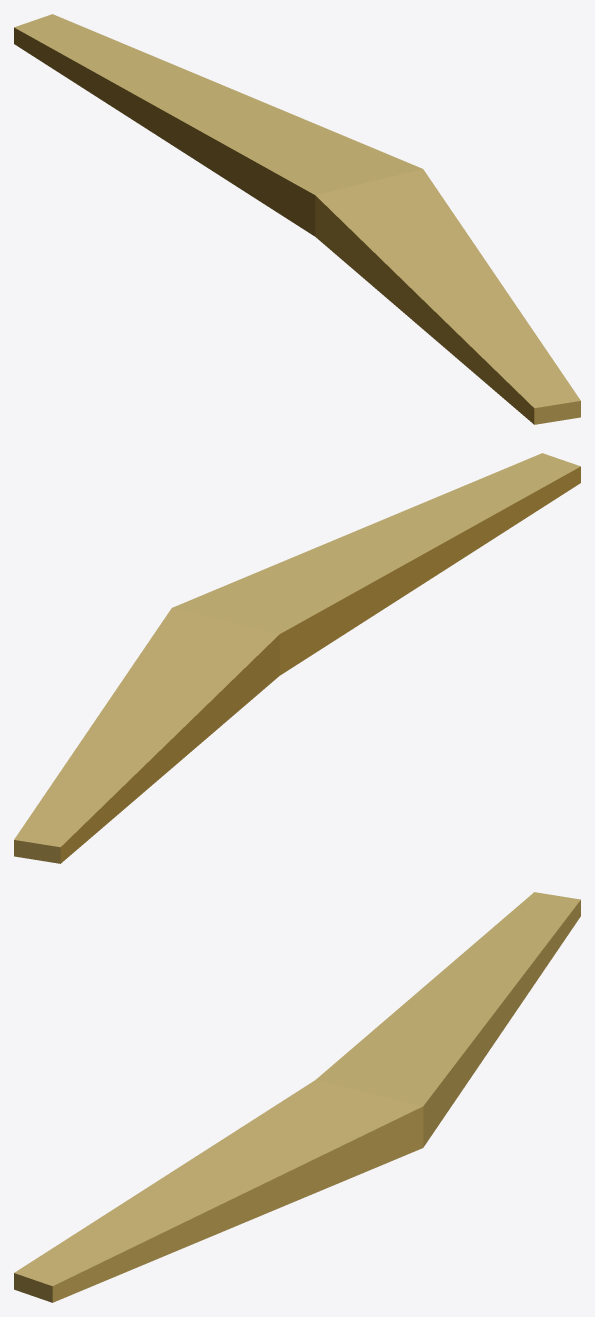
The model's file is straw.glb.
3 renders of one model, top to bottom at view 1: azimuth 30°, elevation 25°; view 2: azimuth 150°, elevation 25°; view 3: azimuth 330°, elevation 25°, orthographic.
Parts seen in each view (by area): view 1: Straw; view 2: Straw; view 3: Straw.
Boxes of the visible parts, box(x1,y1,x2,y2) form: Straw: box(14, 14, 580, 424); Straw: box(14, 453, 580, 863); Straw: box(14, 892, 580, 1302).
Size of the model in its own units: 0.0525 by 0.014 by 0.3224.
